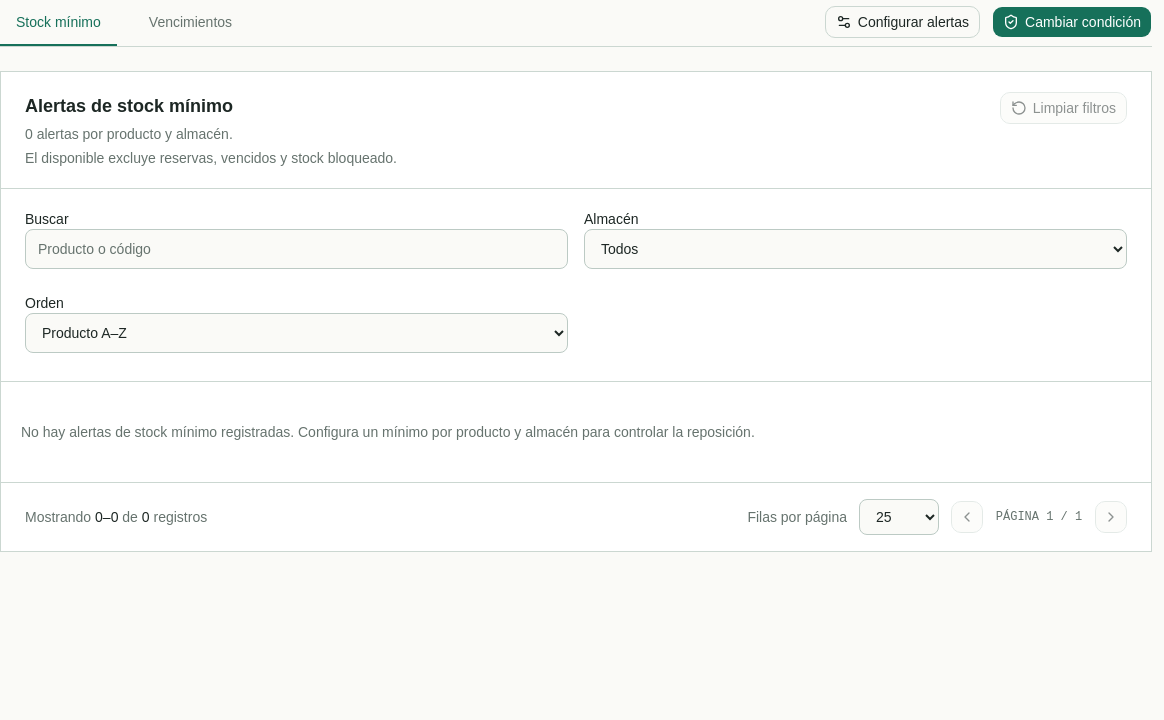
Test: PanelControlStock › distingue una lista sin alertas de una búsqueda sin coincidencias
The image size is (1164, 720).
Expected: the text "No hay alertas de stock mínimo registradas" is shown, left=21, top=424, right=755, bottom=440
In the search field: x=296, y=249 left=25, top=229, right=568, bottom=269, type "medicamento"
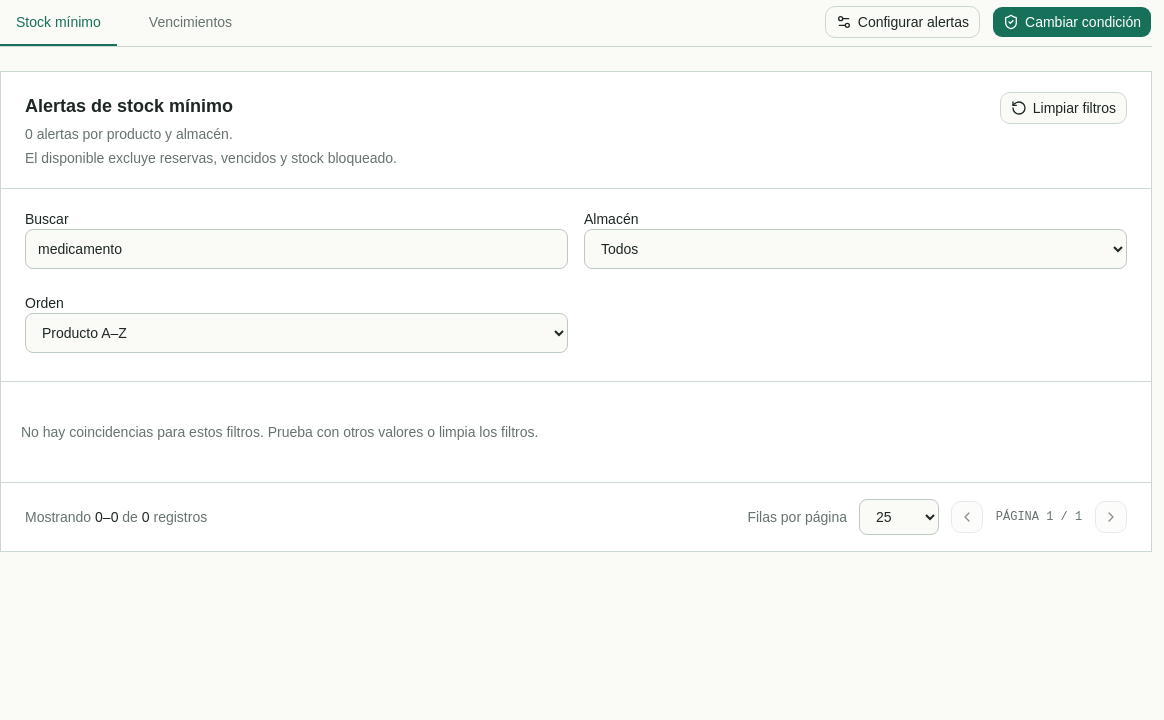
Expected: the text "No hay coincidencias para estos filtros" is shown, left=21, top=424, right=538, bottom=440
